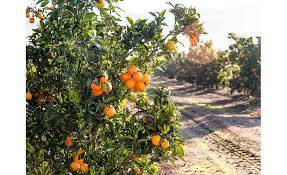orange: (188, 32, 199, 46), (133, 72, 144, 81)
